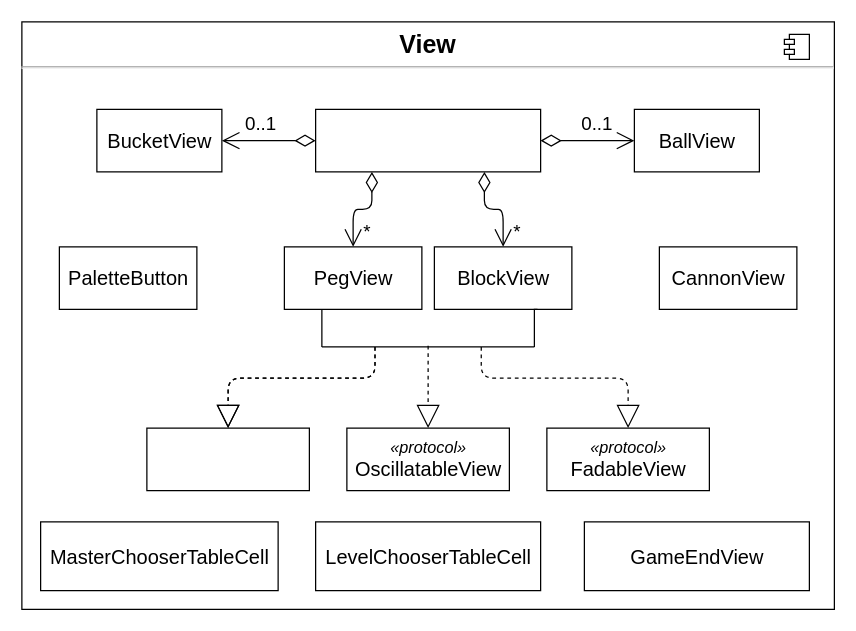
Image size: 856x631. Some labels were removed from this diagram. Here are the shapes that lost their labels. From the top down, the centre of each, then its label:
(427,140): GameBoardView
(227,459): «protocol» SelectableView
